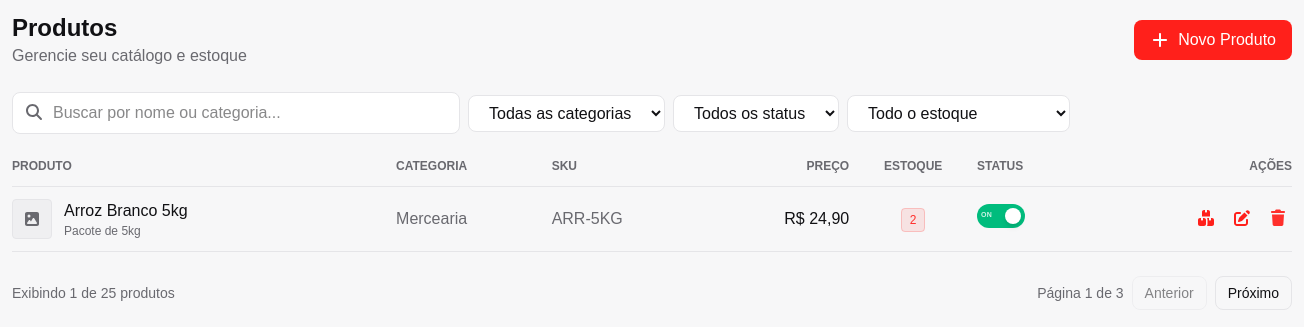
Test case: ProductsPage — paginação › navega entre páginas de produtos
This screenshot has width=1304, height=327.
Check: the text "Exibindo 1 de 25 produtos" is shown, box [12,283,175,303]
Check: the text "Página 1 de 3" is shown, box [1037,283,1124,303]
Click the button "Próximo" at (1253, 293), box [1215,276,1292,310]
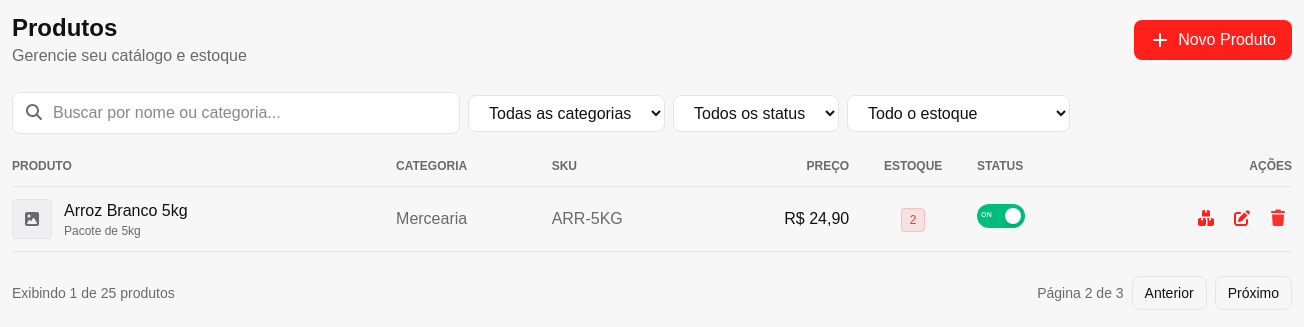
Check: the text "Página 2 de 3" is shown, box [1037,283,1124,303]
Click the button "Anterior" at (1169, 293), box [1132,276,1207,310]
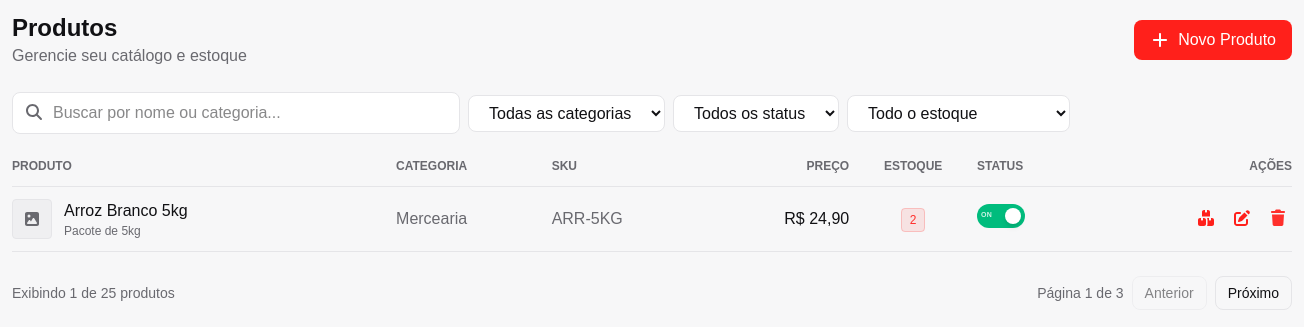
Check: the text "Página 1 de 3" is shown, box [1037,283,1124,303]
